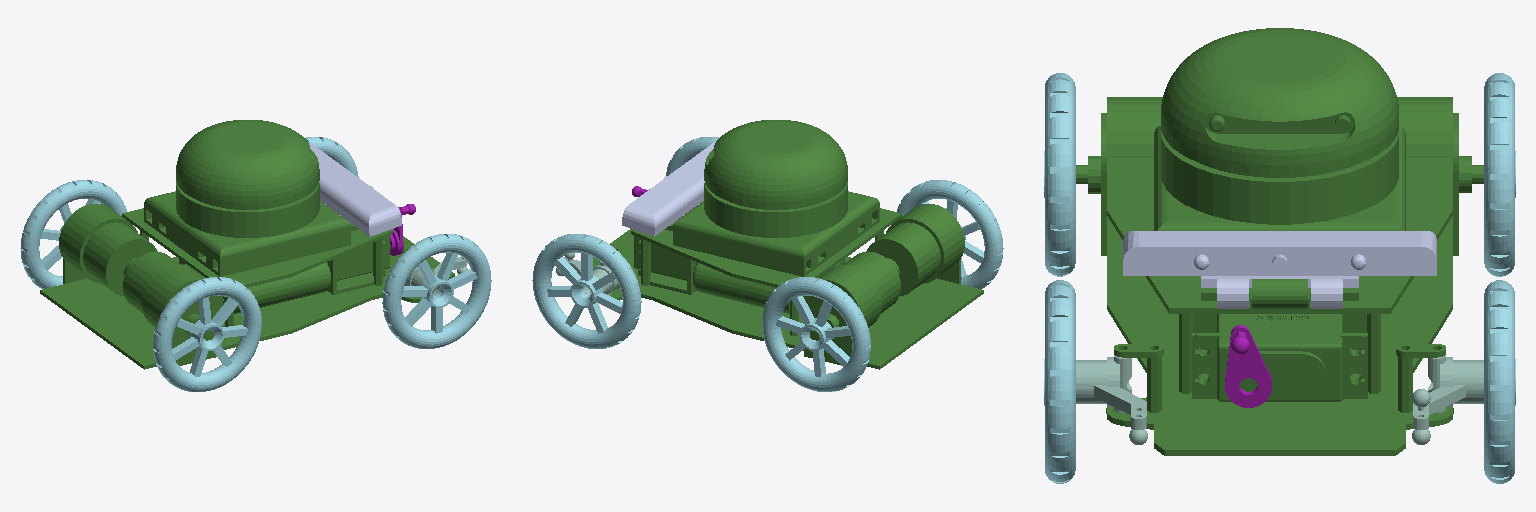
URDF robot description (car.SLDASM):
<?xml version="1.0" encoding="utf-8"?>
<!-- This URDF was automatically created by SolidWorks to URDF Exporter! Originally created by [author] ([email redacted]) 
     Commit Version: 1.5.1-0-g916b5db  Build Version: 1.5.7152.31018
     For more information, please see http://wiki.ros.org/sw_urdf_exporter -->
<robot
  name="car.SLDASM">
  <link
    name="base_link">
    <inertial>
      <origin
        xyz="0.00179285805377807 -9.17629428176305E-06 0.0360041827944672"
        rpy="0 0 0" />
      <mass
        value="0.602602841617535" />
      <inertia
        ixx="0.000249611268649524"
        ixy="9.06360029792656E-08"
        ixz="9.87057318330381E-07"
        iyy="0.000333256060598711"
        iyz="-6.76297915903039E-10"
        izz="0.000511455341525986" />
    </inertial>
    <visual>
      <origin
        xyz="0 0 0"
        rpy="0 0 0" />
      <geometry>
        <mesh
          filename="package://car.SLDASM/meshes/base_link.STL" />
      </geometry>
      <material
        name="">
        <color
          rgba="0.337254901960784 0.549019607843137 0.282352941176471 1" />
      </material>
    </visual>
    <collision>
      <origin
        xyz="0 0 0"
        rpy="0 0 0" />
      <geometry>
        <mesh
          filename="package://car.SLDASM/meshes/base_link.STL" />
      </geometry>
    </collision>
  </link>
  <link
    name="lb_wheel">
    <inertial>
      <origin
        xyz="7.45521179512654E-11 -0.004974430648039 2.15639311962335E-12"
        rpy="0 0 0" />
      <mass
        value="0.0165512934644656" />
      <inertia
        ixx="5.54537335913689E-06"
        ixy="4.45030561211828E-14"
        ixz="-1.86644533759541E-15"
        iyy="1.0900553011918E-05"
        iyz="8.14435618791268E-15"
        izz="5.54537337589587E-06" />
    </inertial>
    <visual>
      <origin
        xyz="0 0 0"
        rpy="0 0 0" />
      <geometry>
        <mesh
          filename="package://car.SLDASM/meshes/lb_wheel.STL" />
      </geometry>
      <material
        name="">
        <color
          rgba="0.647058823529412 0.858823529411765 0.905882352941176 1" />
      </material>
    </visual>
    <collision>
      <origin
        xyz="0 0 0"
        rpy="0 0 0" />
      <geometry>
        <mesh
          filename="package://car.SLDASM/meshes/lb_wheel.STL" />
      </geometry>
    </collision>
  </link>
  <joint
    name="lb_wheel"
    type="continuous">
    <origin
      xyz="-0.0645823070261228 0.075 0.0195"
      rpy="0 0 0" />
    <parent
      link="base_link" />
    <child
      link="lb_wheel" />
    <axis
      xyz="0 1 0" />
    <limit
      lower="-120"
      upper="120"
      effort="50"
      velocity="20" />
    <safety_controller
      soft_upper="100"
      soft_lower="40"
      k_velocity="60" />
  </joint>
  <link
    name="rb_wheel">
    <inertial>
      <origin
        xyz="7.45521179512654E-11 0.004974430648039 -2.15638271128249E-12"
        rpy="0 0 0" />
      <mass
        value="0.0165512934644656" />
      <inertia
        ixx="5.54537335913689E-06"
        ixy="-4.45030610158691E-14"
        ixz="1.86644570723039E-15"
        iyy="1.0900553011918E-05"
        iyz="8.14435599503619E-15"
        izz="5.54537337589587E-06" />
    </inertial>
    <visual>
      <origin
        xyz="0 0 0"
        rpy="0 0 0" />
      <geometry>
        <mesh
          filename="package://car.SLDASM/meshes/rb_wheel.STL" />
      </geometry>
      <material
        name="">
        <color
          rgba="0.647058823529412 0.858823529411765 0.905882352941176 1" />
      </material>
    </visual>
    <collision>
      <origin
        xyz="0 0 0"
        rpy="0 0 0" />
      <geometry>
        <mesh
          filename="package://car.SLDASM/meshes/rb_wheel.STL" />
      </geometry>
    </collision>
  </link>
  <joint
    name="rb_wheel"
    type="continuous">
    <origin
      xyz="-0.0645823070261227 -0.075 0.0195"
      rpy="0 0 0" />
    <parent
      link="base_link" />
    <child
      link="rb_wheel" />
    <axis
      xyz="0 -1 0" />
    <limit
      lower="-120"
      upper="120"
      effort="50"
      velocity="20" />
    <safety_controller
      soft_upper="100"
      soft_lower="40"
      k_velocity="60" />
  </joint>
  <link
    name="servo">
    <inertial>
      <origin
        xyz="-0.000670564663515699 -0.000838904673663491 0.00577004498133679"
        rpy="0 0 0" />
      <mass
        value="0.00102812398052869" />
      <inertia
        ixx="5.06965999363832E-08"
        ixy="3.59582150864825E-10"
        ixz="-2.47323116704478E-09"
        iyy="4.13995778738808E-08"
        iyz="3.89727361496621E-09"
        izz="1.51604797111521E-08" />
    </inertial>
    <visual>
      <origin
        xyz="0 0 0"
        rpy="0 0 0" />
      <geometry>
        <mesh
          filename="package://car.SLDASM/meshes/servo.STL" />
      </geometry>
      <material
        name="">
        <color
          rgba="0.67843137254902 0.176470588235294 0.725490196078431 1" />
      </material>
    </visual>
    <collision>
      <origin
        xyz="0 0 0"
        rpy="0 0 0" />
      <geometry>
        <mesh
          filename="package://car.SLDASM/meshes/servo.STL" />
      </geometry>
    </collision>
  </link>
  <joint
    name="servo"
    type="revolute">
    <origin
      xyz="0.0854176929738543 -0.00999999999994559 0.0149999999999222"
      rpy="0 0 0" />
    <parent
      link="base_link" />
    <child
      link="servo" />
    <axis
      xyz="1 0 0" />
    <limit
      lower="-90"
      upper="90"
      effort="0"
      velocity="0" />
  </joint>
  <link
    name="turn_l">
    <inertial>
      <origin
        xyz="0.0063864243623073 0.003713246739234 4.67852918480532E-05"
        rpy="0 0 0" />
      <mass
        value="0.00262306791605392" />
      <inertia
        ixx="1.02648987046787E-07"
        ixy="6.52855074516281E-08"
        ixz="7.03843776370824E-14"
        iyy="2.32734584765491E-07"
        iyz="-7.50458574116369E-14"
        izz="2.55841528338023E-07" />
    </inertial>
    <visual>
      <origin
        xyz="0 0 0"
        rpy="0 0 0" />
      <geometry>
        <mesh
          filename="package://car.SLDASM/meshes/turn_l.STL" />
      </geometry>
      <material
        name="">
        <color
          rgba="0.63921568627451 0.772549019607843 0.741176470588235 1" />
      </material>
    </visual>
    <collision>
      <origin
        xyz="0 0 0"
        rpy="0 0 0" />
      <geometry>
        <mesh
          filename="package://car.SLDASM/meshes/turn_l.STL" />
      </geometry>
    </collision>
  </link>
  <joint
    name="turn_l"
    type="revolute">
    <origin
      xyz="0.0754177109675237 0.0490967647728443 0.012000024229292"
      rpy="0 0 0" />
    <parent
      link="base_link" />
    <child
      link="turn_l" />
    <axis
      xyz="0 0 -1" />
    <limit
      lower="-45"
      upper="45"
      effort="0"
      velocity="0" />
  </joint>
  <link
    name="lf_wheel">
    <inertial>
      <origin
        xyz="-9.50528544763074E-12 -0.00497443064818028 7.28544672506937E-11"
        rpy="0 0 0" />
      <mass
        value="0.0165512934642293" />
      <inertia
        ixx="5.54537337603311E-06"
        ixy="6.43034739607792E-15"
        ixz="-8.45382228219338E-17"
        iyy="1.09005530118524E-05"
        iyz="4.24854590134975E-14"
        izz="5.54537335893534E-06" />
    </inertial>
    <visual>
      <origin
        xyz="0 0 0"
        rpy="0 0 0" />
      <geometry>
        <mesh
          filename="package://car.SLDASM/meshes/lf_wheel.STL" />
      </geometry>
      <material
        name="">
        <color
          rgba="0.647058823529412 0.858823529411765 0.905882352941176 1" />
      </material>
    </visual>
    <collision>
      <origin
        xyz="0 0 0"
        rpy="0 0 0" />
      <geometry>
        <mesh
          filename="package://car.SLDASM/meshes/lf_wheel.STL" />
      </geometry>
    </collision>
  </link>
  <joint
    name="lf_wheel"
    type="continuous">
    <origin
      xyz="0 0.0259032352271557 0"
      rpy="0 0 0" />
    <parent
      link="turn_l" />
    <child
      link="lf_wheel" />
    <axis
      xyz="0 1 0" />
    <limit
      lower="-120"
      upper="120"
      effort="0"
      velocity="20" />
  </joint>
  <link
    name="link_l">
    <inertial>
      <origin
        xyz="-0.0909323159422917 -0.0450129080904538 0.0297944618792993"
        rpy="0 0 0" />
      <mass
        value="0.861863465978921" />
      <inertia
        ixx="0.00123973903447922"
        ixy="6.30053169404082E-07"
        ixz="-2.77053556965517E-05"
        iyy="0.00235825932701772"
        iyz="-1.89249544963806E-07"
        izz="0.00272890063157574" />
    </inertial>
    <visual>
      <origin
        xyz="0 0 0"
        rpy="0 0 0" />
      <geometry>
        <mesh
          filename="package://car.SLDASM/meshes/link_l.STL" />
      </geometry>
      <material
        name="">
        <color
          rgba="0.301960784313725 0.145098039215686 0.298039215686275 1" />
      </material>
    </visual>
    <collision>
      <origin
        xyz="0 0 0"
        rpy="0 0 0" />
      <geometry>
        <mesh
          filename="package://car.SLDASM/meshes/link_l.STL" />
      </geometry>
    </collision>
  </link>
  <joint
    name="link_l"
    type="revolute">
    <origin
      xyz="0.0299999803666197 -0.00409676459519989 -0.00508581828436026"
      rpy="0 0 0" />
    <parent
      link="turn_l" />
    <child
      link="link_l" />
    <axis
      xyz="0 0 1" />
    <limit
      lower="0"
      upper="0"
      effort="0"
      velocity="0" />
  </joint>
  <link
    name="link_ll">
    <inertial>
      <origin
        xyz="-0.0859323160512497 -0.0450129072987975 0.0186228737691628"
        rpy="0 0 0" />
      <mass
        value="0.861863465978921" />
      <inertia
        ixx="0.00123973903447922"
        ixy="6.30053169404027E-07"
        ixz="-2.77053556965516E-05"
        iyy="0.00235825932701772"
        iyz="-1.89249544963836E-07"
        izz="0.00272890063157574" />
    </inertial>
    <visual>
      <origin
        xyz="0 0 0"
        rpy="0 0 0" />
      <geometry>
        <mesh
          filename="package://car.SLDASM/meshes/link_ll.STL" />
      </geometry>
      <material
        name="">
        <color
          rgba="0.47843137254902 0.627450980392157 0.141176470588235 1" />
      </material>
    </visual>
    <collision>
      <origin
        xyz="0 0 0"
        rpy="0 0 0" />
      <geometry>
        <mesh
          filename="package://car.SLDASM/meshes/link_ll.STL" />
      </geometry>
    </collision>
  </link>
  <joint
    name="link_ll"
    type="revolute">
    <origin
      xyz="0.0249999804755777 -0.00409676538685611 0.00608576982577623"
      rpy="0 0 0" />
    <parent
      link="turn_l" />
    <child
      link="link_ll" />
    <axis
      xyz="0 0 -1" />
    <limit
      lower="0"
      upper="0"
      effort="0"
      velocity="0" />
  </joint>
  <link
    name="turn_r">
    <inertial>
      <origin
        xyz="0.00547231101220577 -0.00409679706510864 -0.00022824773399128"
        rpy="0 0 0" />
      <mass
        value="0.00250027899801977" />
      <inertia
        ixx="1.02054358011643E-07"
        ixy="-6.52855088977075E-08"
        ixz="-7.04722957241176E-14"
        iyy="2.32139951918833E-07"
        iyz="-7.50928903784836E-14"
        izz="2.55429486721656E-07" />
    </inertial>
    <visual>
      <origin
        xyz="0 0 0"
        rpy="0 0 0" />
      <geometry>
        <mesh
          filename="package://car.SLDASM/meshes/turn_r.STL" />
      </geometry>
      <material
        name="">
        <color
          rgba="0.63921568627451 0.772549019607843 0.741176470588235 1" />
      </material>
    </visual>
    <collision>
      <origin
        xyz="0 0 0"
        rpy="0 0 0" />
      <geometry>
        <mesh
          filename="package://car.SLDASM/meshes/turn_r.STL" />
      </geometry>
    </collision>
  </link>
  <joint
    name="turn_r"
    type="revolute">
    <origin
      xyz="0.0754177109675115 -0.0490967647728332 0.01199997577068"
      rpy="0 0 0" />
    <parent
      link="base_link" />
    <child
      link="turn_r" />
    <axis
      xyz="0 0 1" />
    <limit
      lower="-45"
      upper="45"
      effort="0"
      velocity="0" />
  </joint>
  <link
    name="rf_wheel">
    <inertial>
      <origin
        xyz="-9.50342582406449E-12 0.00497443064818727 -7.28546997036394E-11"
        rpy="0 0 0" />
      <mass
        value="0.0165512934642293" />
      <inertia
        ixx="5.54537337603312E-06"
        ixy="-6.43030017625828E-15"
        ixz="8.4532800324454E-17"
        iyy="1.09005530118525E-05"
        iyz="4.24854559078279E-14"
        izz="5.54537335893534E-06" />
    </inertial>
    <visual>
      <origin
        xyz="0 0 0"
        rpy="0 0 0" />
      <geometry>
        <mesh
          filename="package://car.SLDASM/meshes/rf_wheel.STL" />
      </geometry>
      <material
        name="">
        <color
          rgba="0.647058823529412 0.858823529411765 0.905882352941176 1" />
      </material>
    </visual>
    <collision>
      <origin
        xyz="0 0 0"
        rpy="0 0 0" />
      <geometry>
        <mesh
          filename="package://car.SLDASM/meshes/rf_wheel.STL" />
      </geometry>
    </collision>
  </link>
  <joint
    name="rf_wheel"
    type="continuous">
    <origin
      xyz="0 -0.0259032352271723 0"
      rpy="0 0 0" />
    <parent
      link="turn_r" />
    <child
      link="rf_wheel" />
    <axis
      xyz="0 -1 0" />
    <limit
      lower="-120"
      upper="120"
      effort="0"
      velocity="20" />
  </joint>
  <link
    name="link_rr">
    <inertial>
      <origin
        xyz="-0.0783613437139762 0.0125768768467714 0.00389594723193967"
        rpy="0 0 0" />
      <mass
        value="0.861863465978921" />
      <inertia
        ixx="0.00123973903447922"
        ixy="6.30053169404052E-07"
        ixz="-2.77053556965516E-05"
        iyy="0.00235825932701772"
        iyz="-1.89249544963833E-07"
        izz="0.00272890063157574" />
    </inertial>
    <visual>
      <origin
        xyz="0 0 0"
        rpy="0 0 0" />
      <geometry>
        <mesh
          filename="package://car.SLDASM/meshes/link_rr.STL" />
      </geometry>
      <material
        name="">
        <color
          rgba="0.301960784313725 0.145098039215686 0.298039215686275 1" />
      </material>
    </visual>
    <collision>
      <origin
        xyz="0 0 0"
        rpy="0 0 0" />
      <geometry>
        <mesh
          filename="package://car.SLDASM/meshes/link_rr.STL" />
      </geometry>
    </collision>
  </link>
  <joint
    name="link_rr"
    type="revolute">
    <origin
      xyz="0.0174290081383163 0.0365069800132524 0.0208127448216114"
      rpy="0 0 0" />
    <parent
      link="turn_r" />
    <child
      link="link_rr" />
    <axis
      xyz="-1 0 0" />
    <limit
      lower="0"
      upper="0"
      effort="0"
      velocity="0" />
  </joint>
  <link
    name="camera">
    <inertial>
      <origin
        xyz="-0.0135786496601567 1.28905432960386E-07 0.00611034086129218"
        rpy="0 0 0" />
      <mass
        value="0.186904128800083" />
      <inertia
        ixx="0.000133784122207917"
        ixy="9.95919502464347E-11"
        ixz="2.02433719255545E-07"
        iyy="1.0664060130472E-05"
        iyz="3.36230004794001E-10"
        izz="0.000138831068112444" />
    </inertial>
    <visual>
      <origin
        xyz="0 0 0"
        rpy="0 0 0" />
      <geometry>
        <mesh
          filename="package://car.SLDASM/meshes/camera.STL" />
      </geometry>
      <material
        name="">
        <color
          rgba="0.792156862745098 0.819607843137255 0.933333333333333 1" />
      </material>
    </visual>
    <collision>
      <origin
        xyz="0 0 0"
        rpy="0 0 0" />
      <geometry>
        <mesh
          filename="package://car.SLDASM/meshes/camera.STL" />
      </geometry>
    </collision>
  </link>
  <joint
    name="camera"
    type="revolute">
    <origin
      xyz="0.0699787259278233 0 0.041061032953946"
      rpy="0 0 0" />
    <parent
      link="base_link" />
    <child
      link="camera" />
    <axis
      xyz="0 -1 0" />
    <limit
      lower="-60"
      upper="60"
      effort="0"
      velocity="0" />
  </joint>
</robot>

--- Facts derived from the render (not from the file) ---
Views: 3 orthographic renders of the robot side by side, from view 1: azimuth 30°, elevation 25°; view 2: azimuth 150°, elevation 25°; view 3: azimuth 270°, elevation 25°.
Robot: car.SLDASM — 12 links, 11 joints (7 revolute, 4 continuous); root link base_link; default pose: all joints at 0.
Visible links, largest first — view 1: base_link, rf_wheel, rb_wheel, lb_wheel, camera, lf_wheel; view 2: base_link, lf_wheel, lb_wheel, rb_wheel, camera, rf_wheel, turn_l; view 3: base_link, camera, lb_wheel, rf_wheel, rb_wheel, lf_wheel, turn_l, turn_r, servo.
Boxes of the visible links, x1,y1,x2,y2 form: base_link: [40, 120, 454, 369]; rf_wheel: [382, 234, 491, 348]; rb_wheel: [153, 277, 261, 391]; lb_wheel: [20, 180, 126, 288]; camera: [308, 142, 401, 236]; lf_wheel: [305, 137, 357, 175]; base_link: [593, 120, 983, 369]; lf_wheel: [532, 234, 641, 348]; lb_wheel: [762, 277, 870, 391]; rb_wheel: [897, 180, 1003, 288]; camera: [622, 142, 715, 236]; rf_wheel: [666, 137, 718, 175]; turn_l: [556, 253, 617, 295]; base_link: [1076, 28, 1483, 455]; camera: [1123, 231, 1436, 308]; lb_wheel: [1484, 73, 1515, 276]; rf_wheel: [1044, 280, 1075, 483]; rb_wheel: [1044, 73, 1075, 276]; lf_wheel: [1484, 280, 1515, 483]; turn_l: [1412, 355, 1483, 444]; turn_r: [1076, 355, 1147, 444]; servo: [1225, 325, 1271, 407].
Bounding box of the posed robot: 0.2055 × 0.15 × 0.1115 m (x, y, z).
9 mesh visuals loaded from 12 distinct referenced files (9 binary STL); not drawn: 3 (file found but could not be loaded).